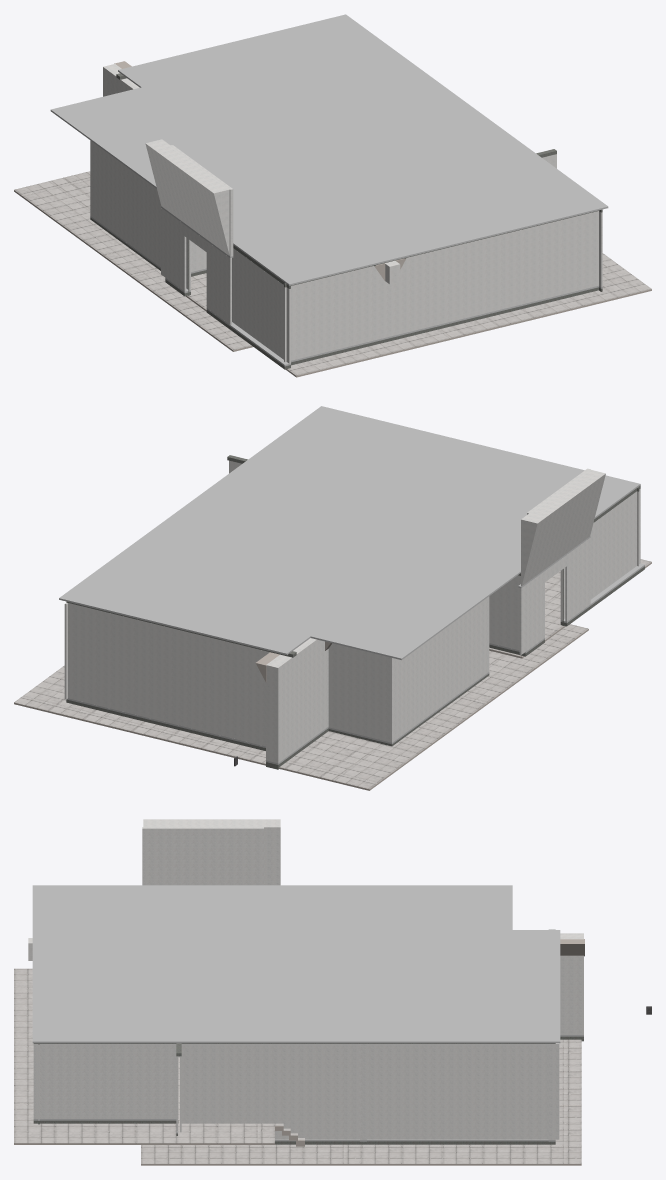
Rendered from scp_room_205.dae.
3 renders of one model, top to bottom at view 1: azimuth 30°, elevation 25°; view 2: azimuth 150°, elevation 25°; view 3: azimuth 270°, elevation 25°, orthographic.
Visible parts, largest first — view 1: SCP 205 Containment Chamber.018, SCP 205 Containment Chamber.002, SCP 205 Containment Chamber.003, SCP 205 Containment Chamber.005, SCP 205 Containment Chamber.001, SCP 205 Containment Chamber.006; view 2: SCP 205 Containment Chamber.018, SCP 205 Containment Chamber.002, SCP 205 Containment Chamber.003, SCP 205 Containment Chamber.005, SCP 205 Containment Chamber.001, SCP 205 Containment Chamber.006; view 3: SCP 205 Containment Chamber.018, SCP 205 Containment Chamber.002, SCP 205 Containment Chamber.003, SCP 205 Containment Chamber.005, SCP 205 Containment Chamber.001, SCP 205 Containment Chamber.006.
Part boxes in pixels (x1,y1,x2,y2): SCP 205 Containment Chamber.018: (50, 14, 608, 285); SCP 205 Containment Chamber.002: (90, 64, 602, 363); SCP 205 Containment Chamber.003: (14, 171, 651, 375); SCP 205 Containment Chamber.005: (90, 73, 602, 369); SCP 205 Containment Chamber.001: (14, 61, 651, 377); SCP 205 Containment Chamber.006: (90, 206, 602, 366); SCP 205 Containment Chamber.018: (59, 406, 640, 660); SCP 205 Containment Chamber.002: (64, 460, 640, 763); SCP 205 Containment Chamber.003: (14, 559, 651, 788); SCP 205 Containment Chamber.005: (66, 455, 644, 769); SCP 205 Containment Chamber.001: (14, 562, 651, 790); SCP 205 Containment Chamber.006: (67, 536, 644, 764); SCP 205 Containment Chamber.018: (32, 885, 560, 1043); SCP 205 Containment Chamber.002: (28, 819, 583, 1139); SCP 205 Containment Chamber.003: (14, 968, 581, 1163); SCP 205 Containment Chamber.005: (33, 929, 583, 1144); SCP 205 Containment Chamber.001: (14, 939, 584, 1165); SCP 205 Containment Chamber.006: (33, 1035, 583, 1141).
Bounding box in the file's own units: 49.21 × 72.37 × 21.61.
